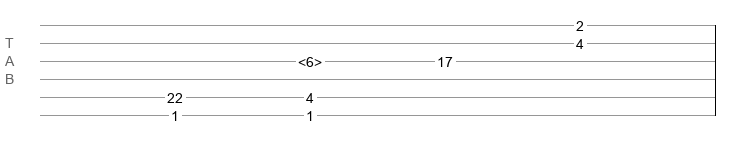1: (171, 108, 179, 118), (306, 108, 314, 118)
17: (437, 54, 453, 64)
2: (576, 18, 584, 28)
22: (167, 90, 183, 100)
4: (306, 90, 314, 100), (576, 36, 584, 46)
harmonic: (298, 54, 322, 64)
